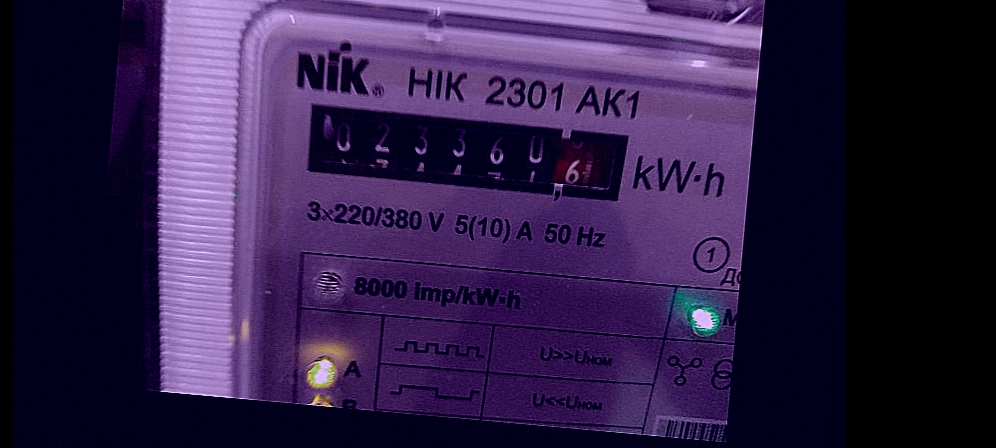0: (332, 116, 357, 153), (524, 129, 549, 166)
2: (372, 117, 396, 154)
3: (411, 121, 434, 158), (450, 123, 471, 159)
6: (486, 130, 509, 165), (563, 152, 584, 186)
screen: (291, 90, 650, 220)
